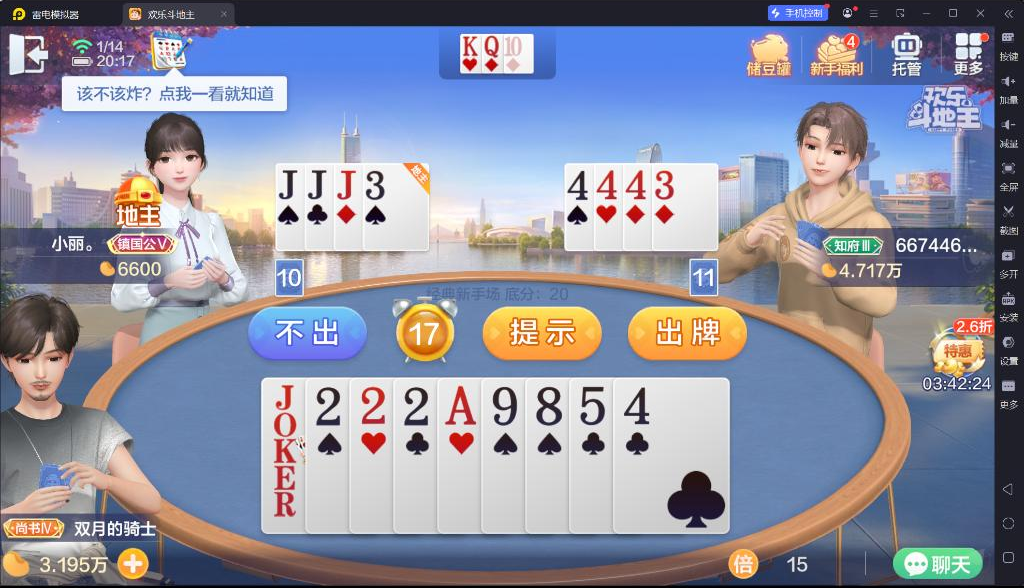A: (443, 383, 478, 428)
J: (276, 168, 300, 204), (334, 167, 359, 201), (307, 168, 330, 200)
JOKER: (271, 381, 298, 470)
K: (461, 35, 480, 58)
Q: (483, 35, 501, 59)
eight: (531, 385, 564, 429)
five: (573, 383, 608, 426)
four: (621, 384, 653, 426), (565, 168, 591, 202), (622, 167, 647, 201), (595, 168, 618, 203)
nine: (489, 383, 517, 427)
ten: (505, 35, 523, 58)
three: (653, 166, 677, 201), (365, 165, 385, 202)
two: (358, 382, 390, 426), (401, 385, 434, 427), (315, 381, 343, 429)
